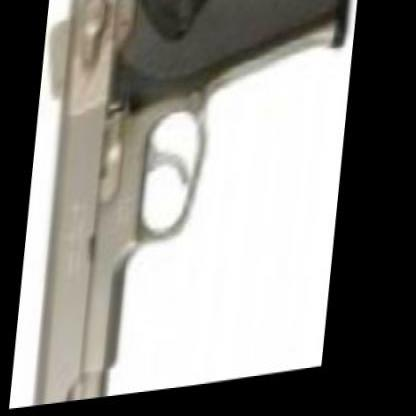pistol: (18, 0, 362, 409)
